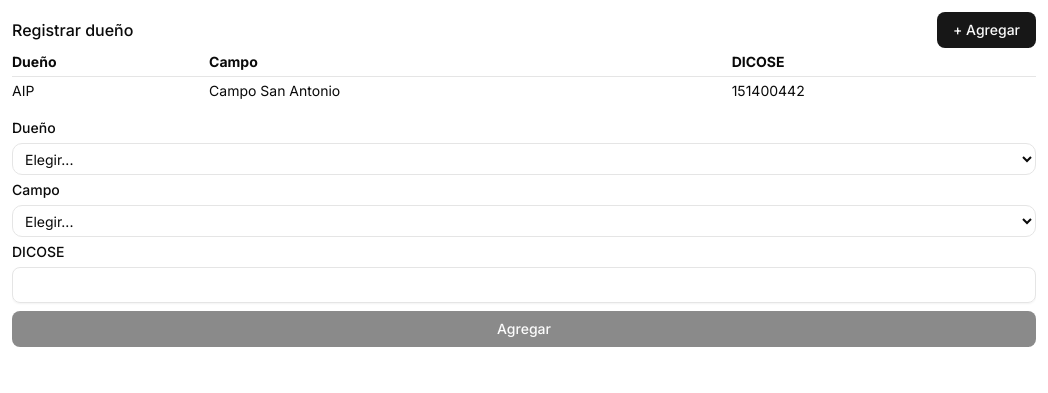
Test case: DicoseRegistrationForm › lists existing registrations and adds a new one
Check: the text "151400442" is shown, box left=732, top=76, right=1036, bottom=105
Step 1. Select "SASG" in the dropdown labelled "Dueño" → (524, 159), box left=12, top=143, right=1036, bottom=175
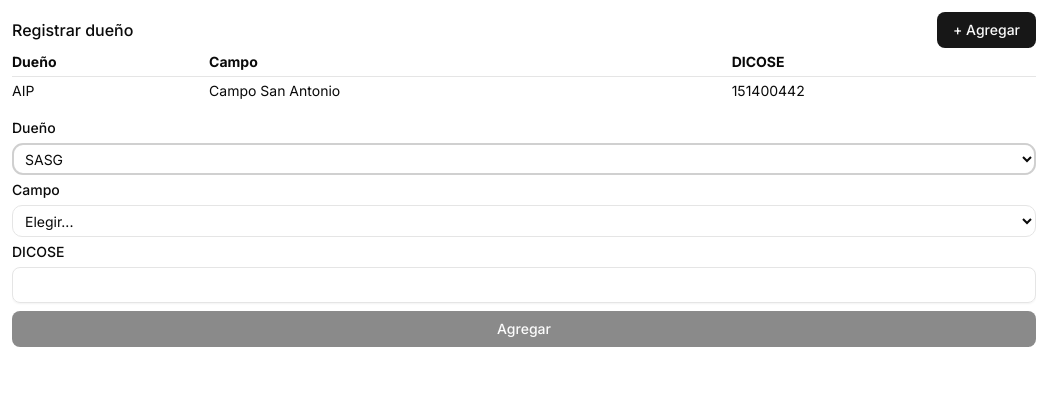
Step 2. Select "Campo San Antonio" in the dropdown labelled "Campo" → (524, 221), box left=12, top=205, right=1036, bottom=237
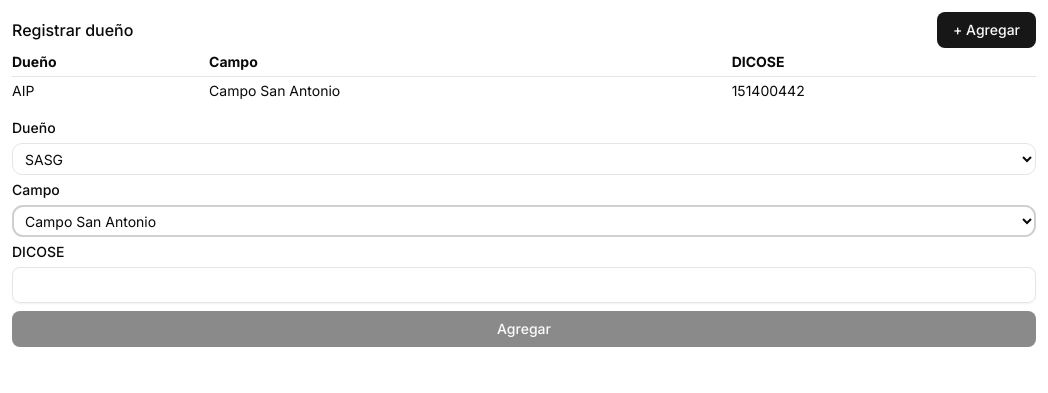
Step 3. Type "151422799" into the field labelled "DICOSE" → (524, 285), box left=12, top=267, right=1036, bottom=303
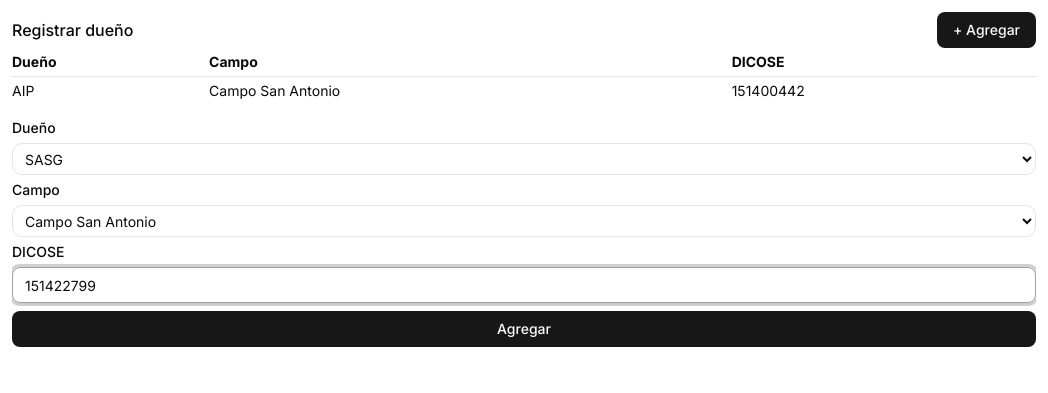
Step 4. Click the button "Agregar" → (524, 329), box left=12, top=311, right=1036, bottom=347
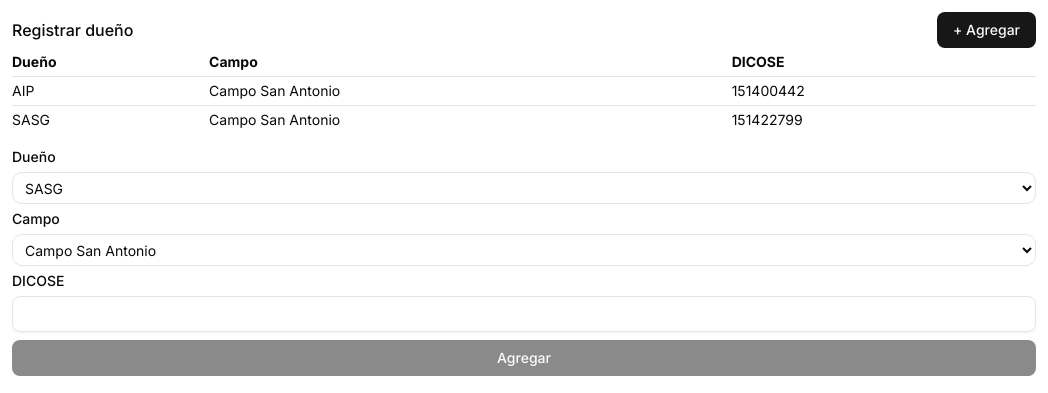
Check: the text "151422799" is shown, box left=732, top=106, right=1036, bottom=134
